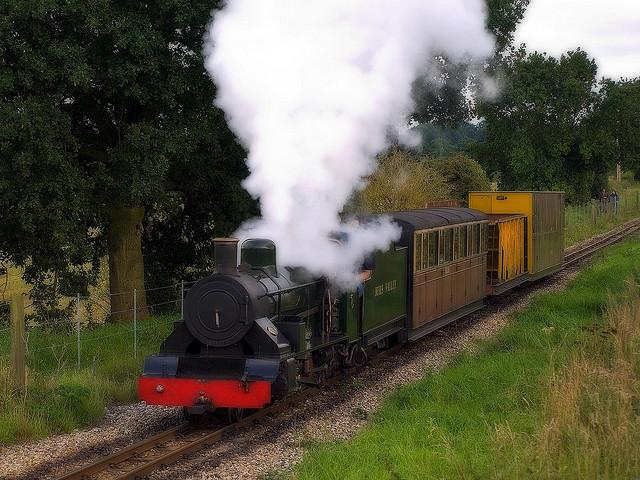Train: (132, 181, 572, 421)
